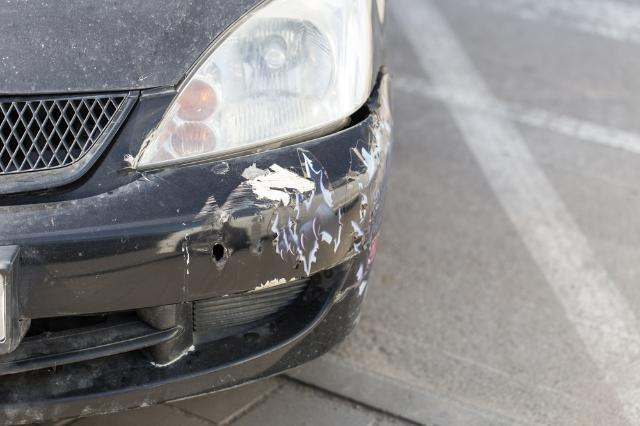scratch: (188, 119, 392, 321)
